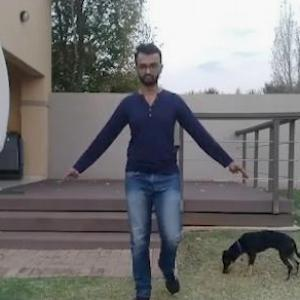land: (76, 57, 227, 297)
